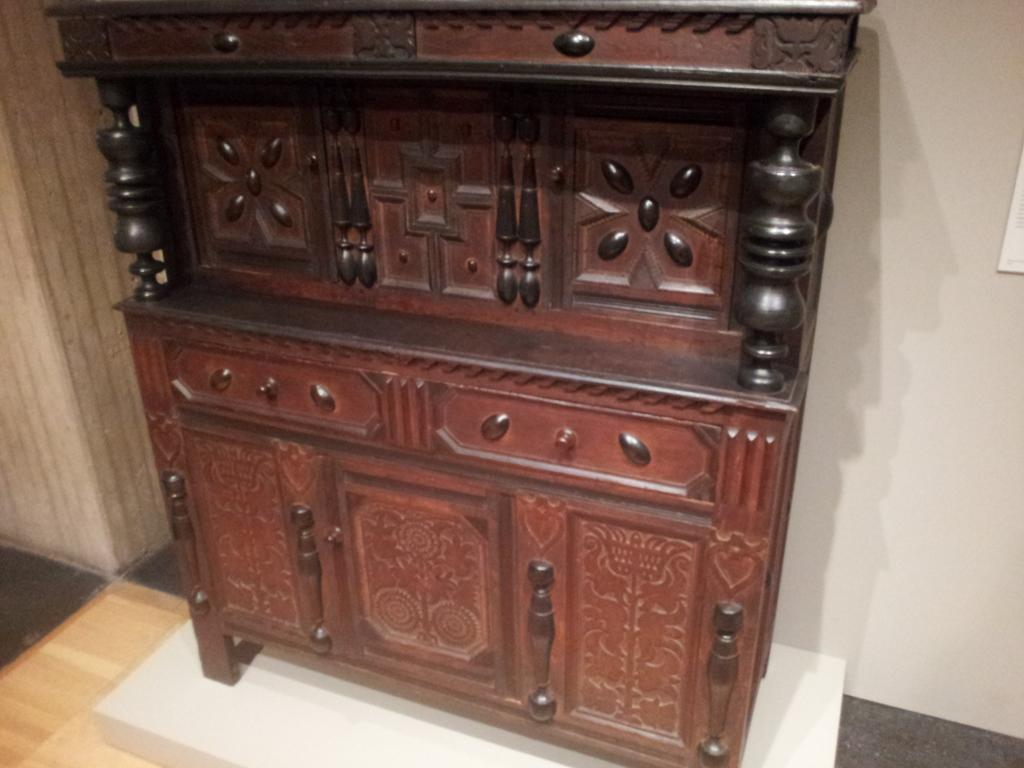cabinet_door: (338, 477, 502, 657), (572, 525, 686, 719), (187, 428, 283, 612)
handle: (320, 522, 346, 552)
